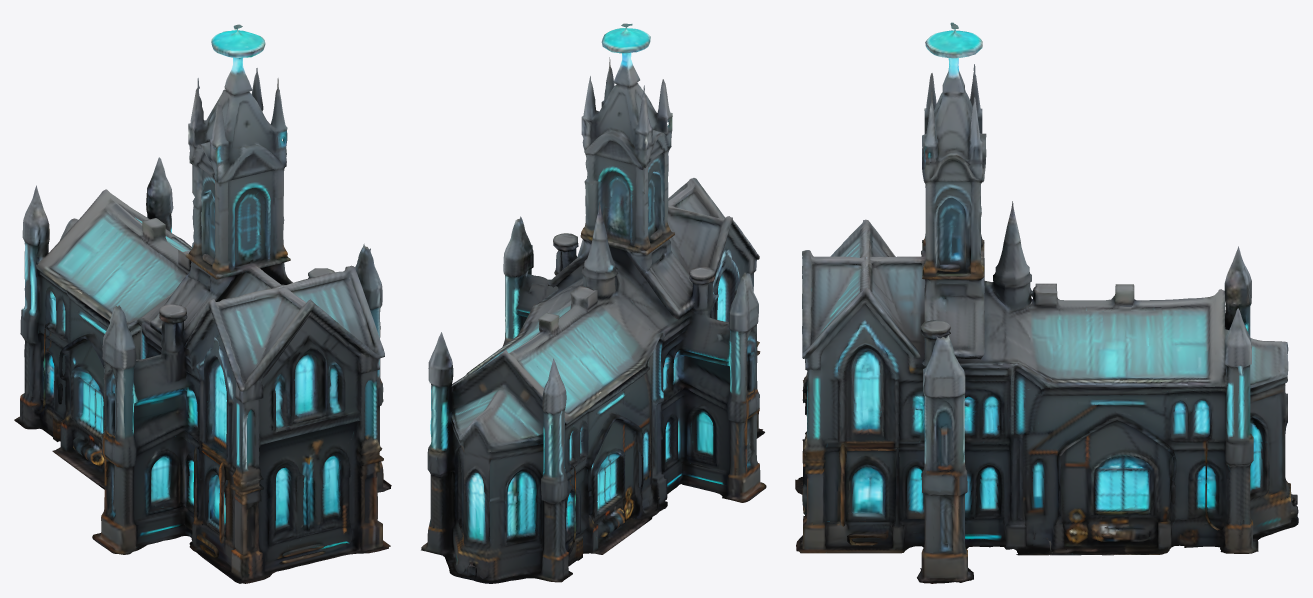
File: base_basic_shaded.fbx
3 renders of one model, left to right at view 1: azimuth 30°, elevation 25°; view 2: azimuth 150°, elevation 25°; view 3: azimuth 270°, elevation 25°, orthographic. The views are drawn at different scales.
Visible parts, largest first — view 1: model; view 2: model; view 3: model.
Part boxes in pixels (<box>): model: <box>14,24,391,583</box>; model: <box>421,23,766,583</box>; model: <box>795,22,1298,583</box>.
Size of the model in its own units: 107 by 182 by 166.
